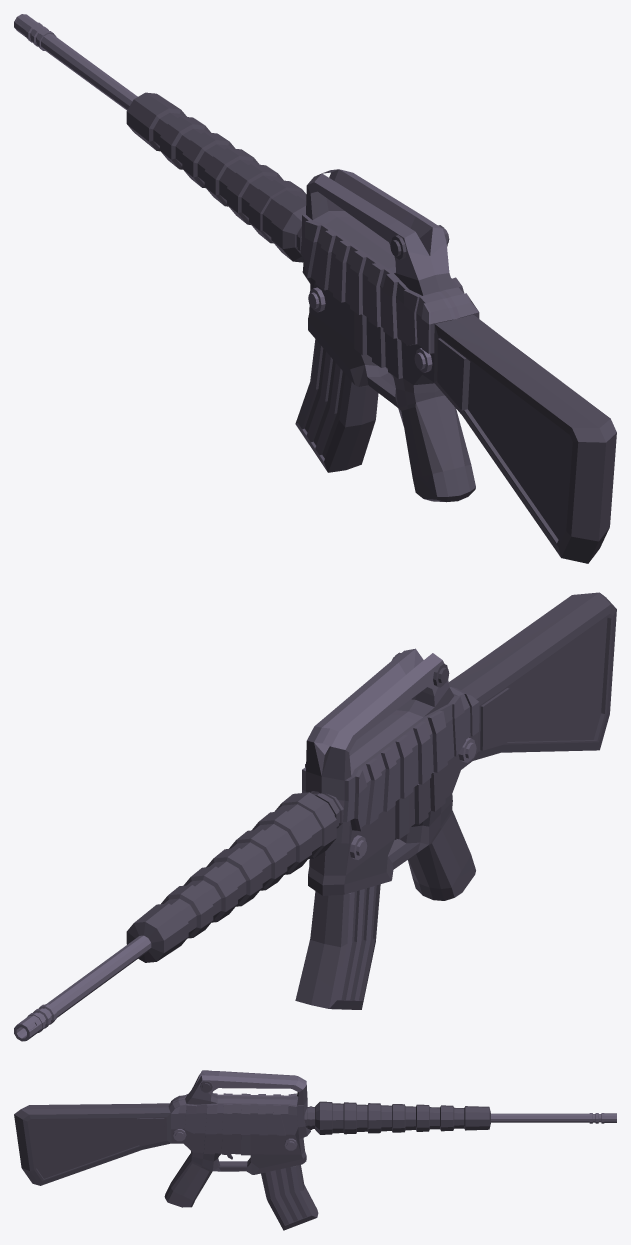
Rendered from Assoult_1.fbx.
3 renders of one model, top to bottom at view 1: azimuth 30°, elevation 25°; view 2: azimuth 150°, elevation 25°; view 3: azimuth 270°, elevation 25°, orthographic. The views are drawn at different scales.
Visible parts, largest first — view 1: Weapon1; view 2: Weapon1; view 3: Weapon1.
Part boxes in pixels (x1,y1,x2,y2): Weapon1: (14,14,616,563); Weapon1: (14,592,616,1041); Weapon1: (14,1070,616,1230).
Bounding box in the file's own units: 46.06 × 241 × 859.
